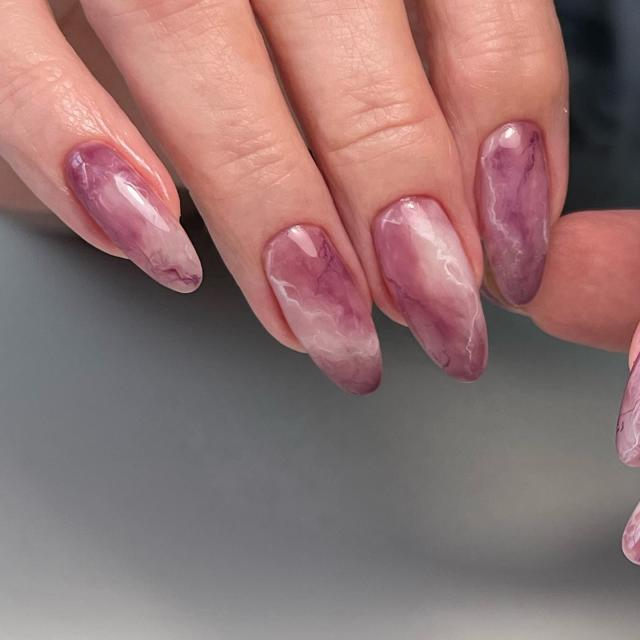Nail: (371, 196, 488, 381), (65, 141, 201, 292), (262, 224, 381, 393), (475, 121, 550, 305)
